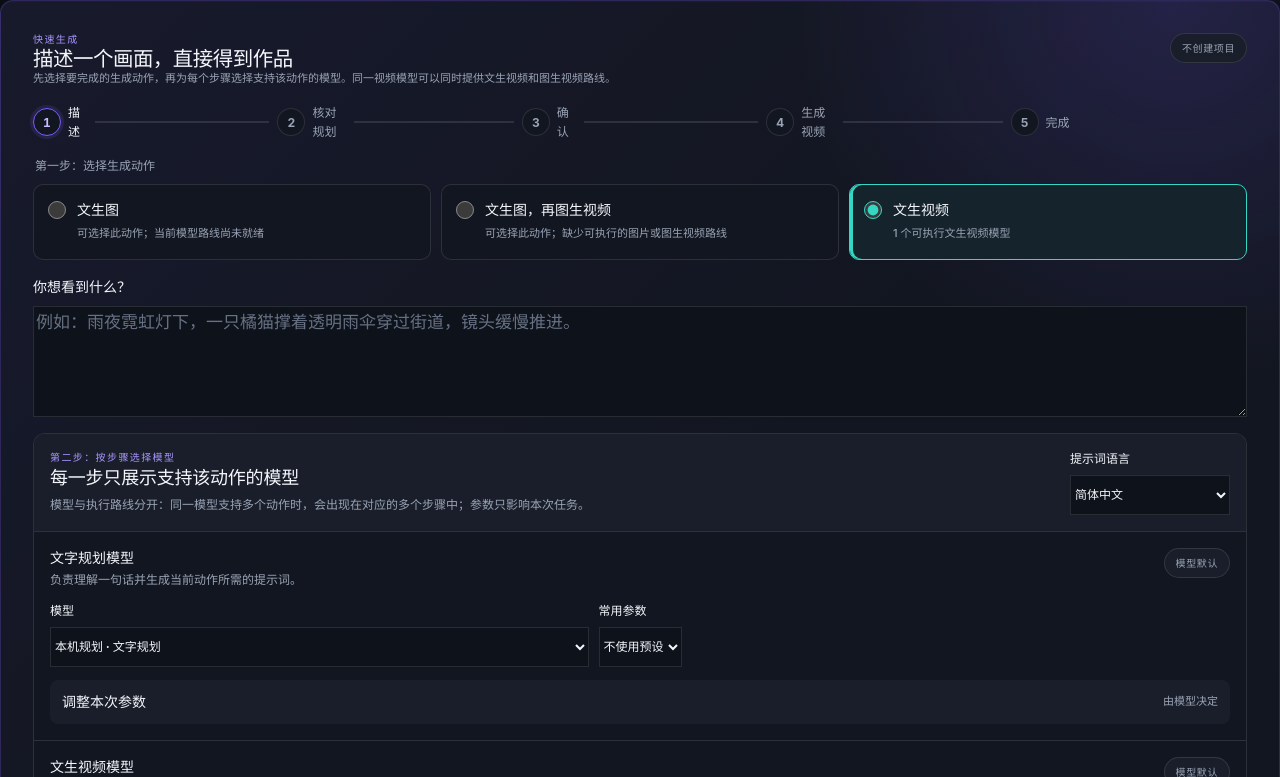
Scenario: QuickGenerationWorkbench › invalidates a V2 direct-image preview when the prompt changes
Click the radio button labelled "文生图 可选择此动作；当前模型路线尚未就绪": (57, 210) [48,201,66,219]
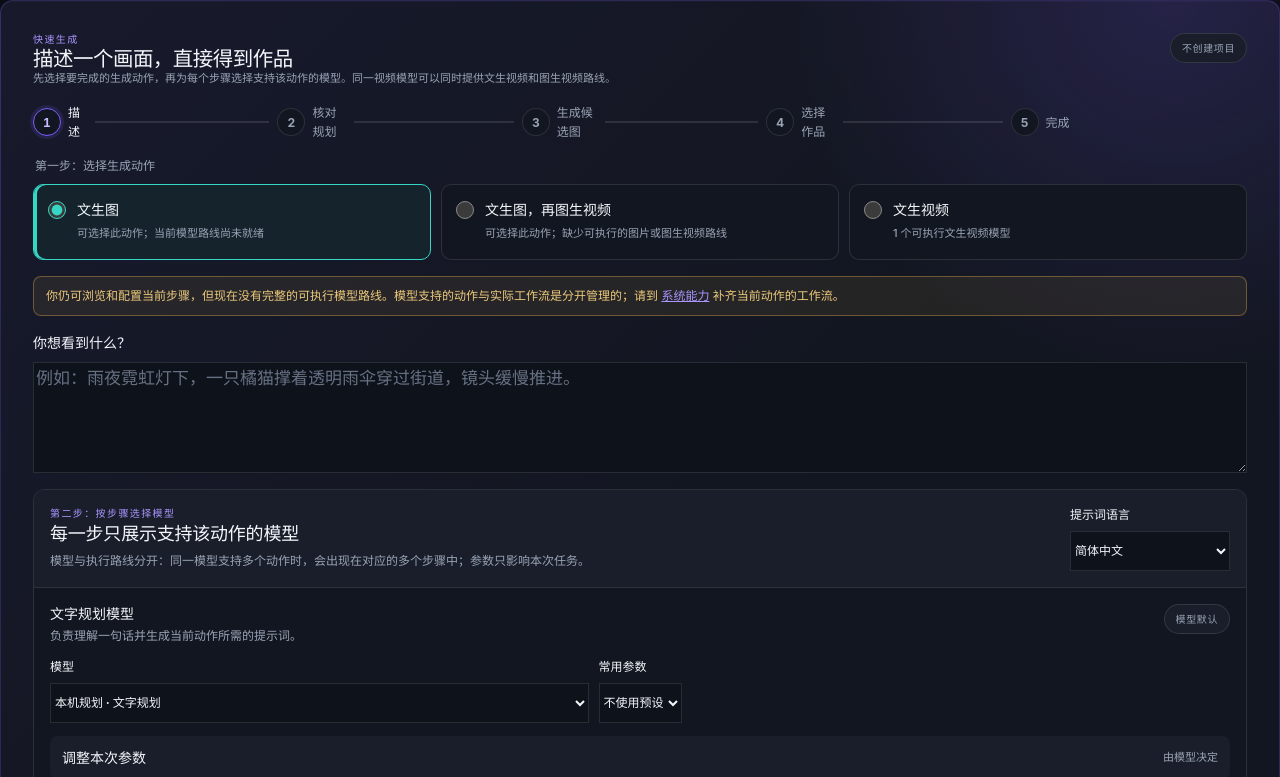
In the text box labelled "你想看到什么？": (640, 417) [33,362,1247,473], type "雨夜的橘猫"
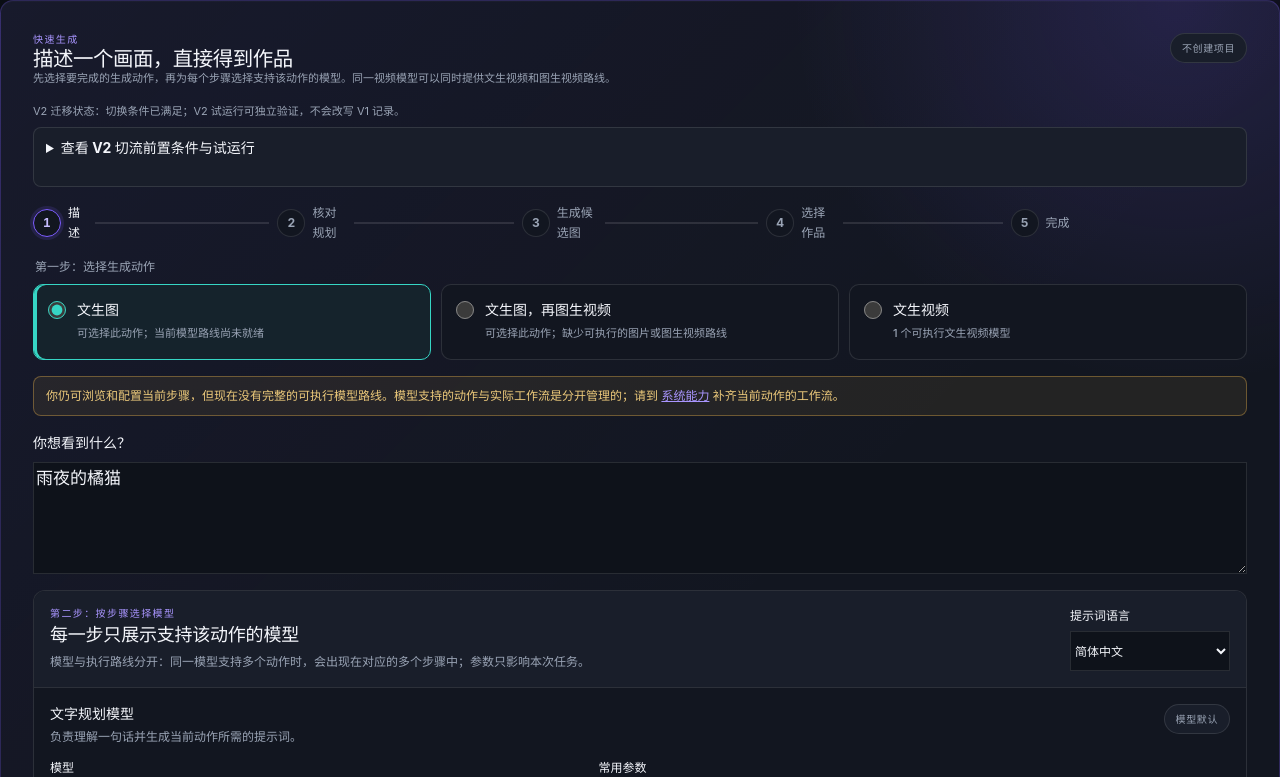
Click the heading "查看 V2 切流前置条件与试运行": (158, 148) [61,140,255,156]
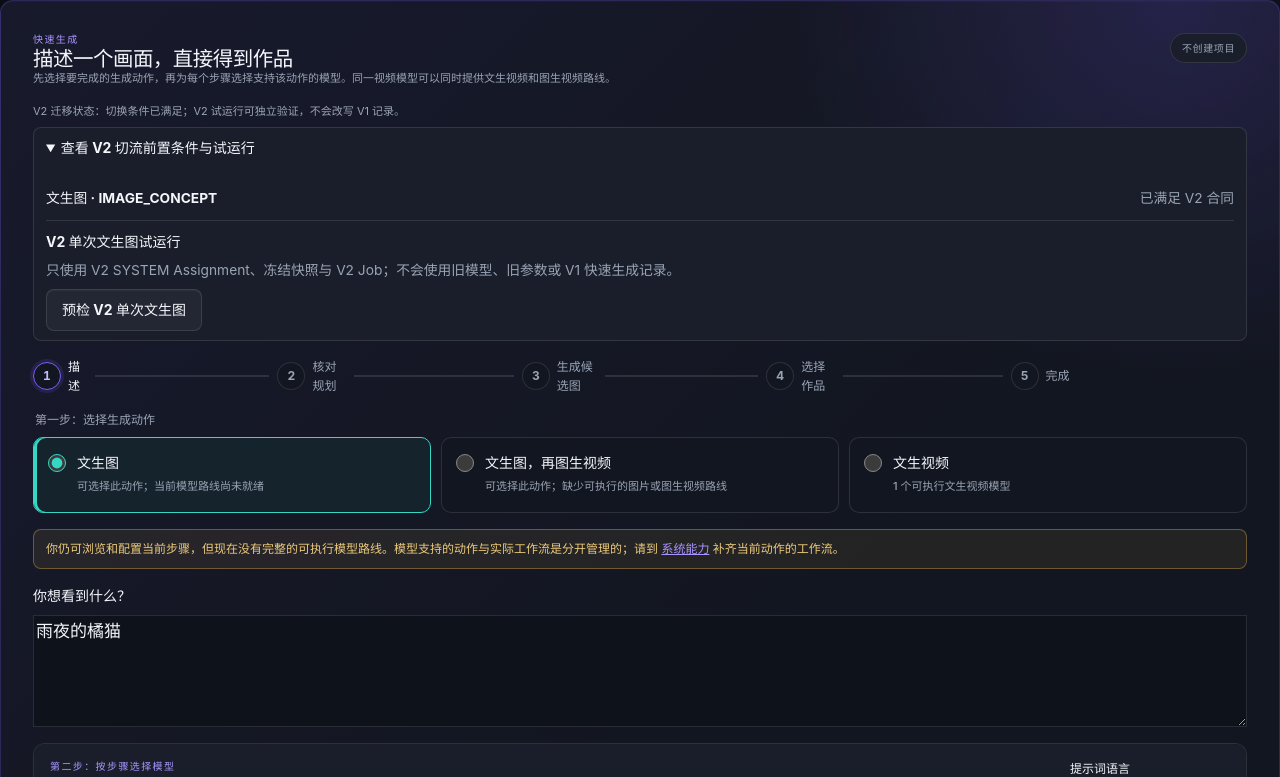
Click the button "预检 V2 单次文生图": (124, 310) [46,289,202,330]
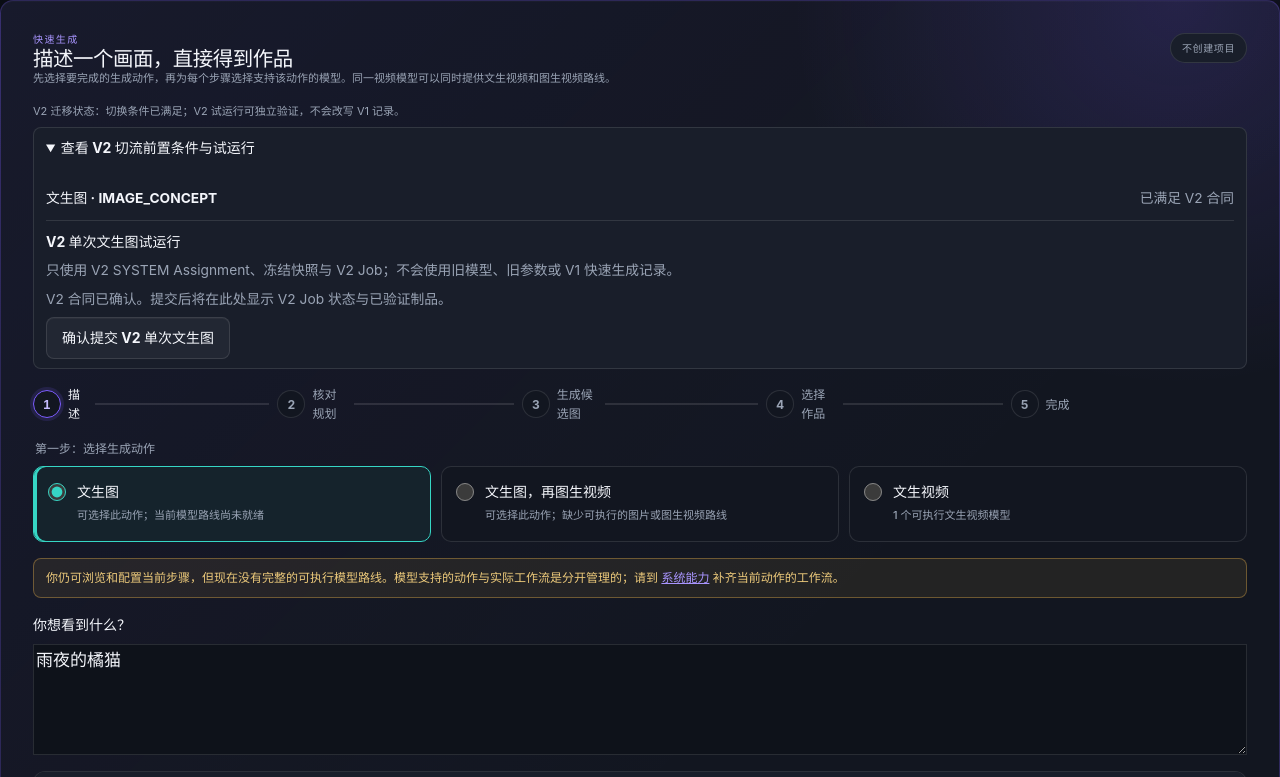
Expected: the button "确认提交 V2 单次文生图" is shown, [46,318,230,359]
Replace the text in the text box labelled "你想看到什么？" with "清晨的白鹿": (640, 700) [33,644,1247,755]
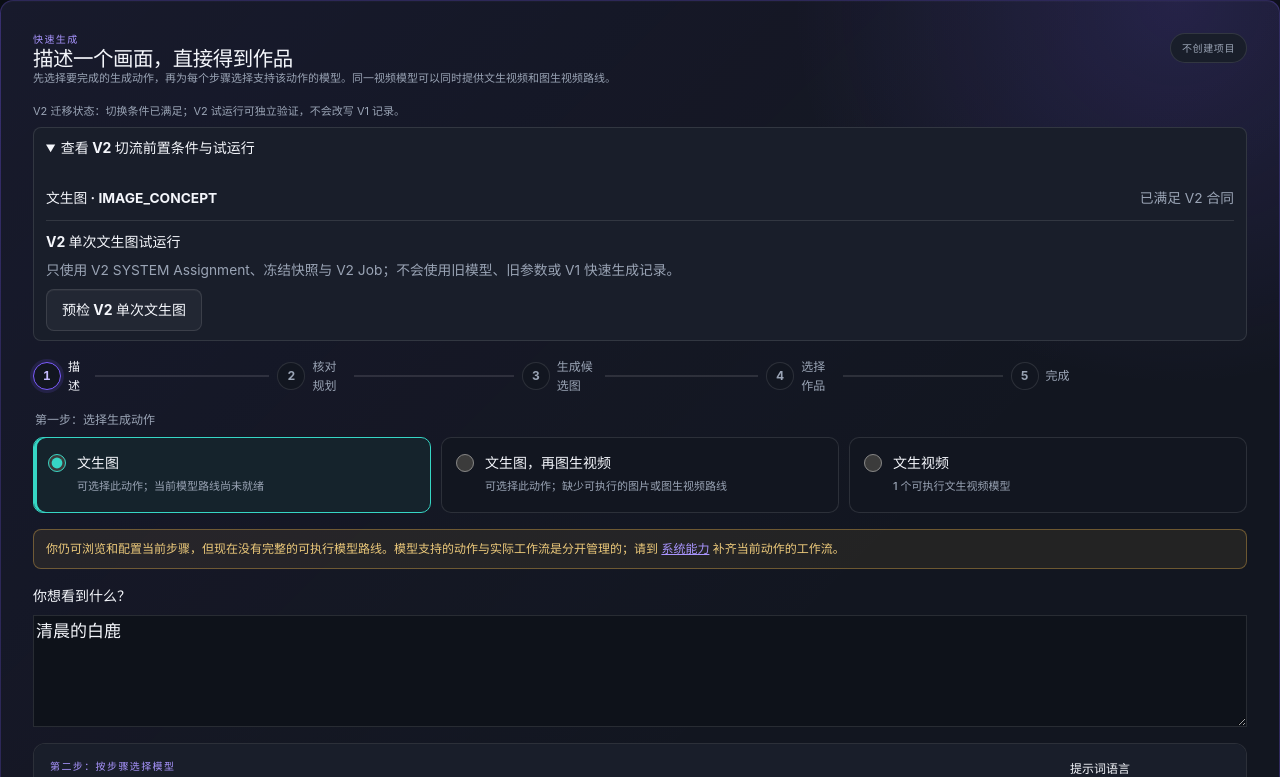
Expected: the button "确认提交 V2 单次文生图" is gone
Expected: the button "预检 V2 单次文生图" is shown, [46,289,202,330]
